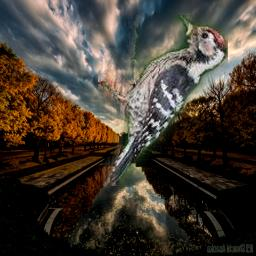Woodpecker: (98, 15, 228, 186)
